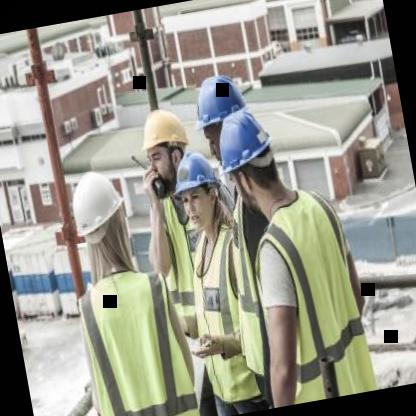helmet: (200, 77, 282, 212), (60, 162, 137, 274), (164, 141, 234, 239), (130, 101, 199, 193), (186, 70, 252, 153)
